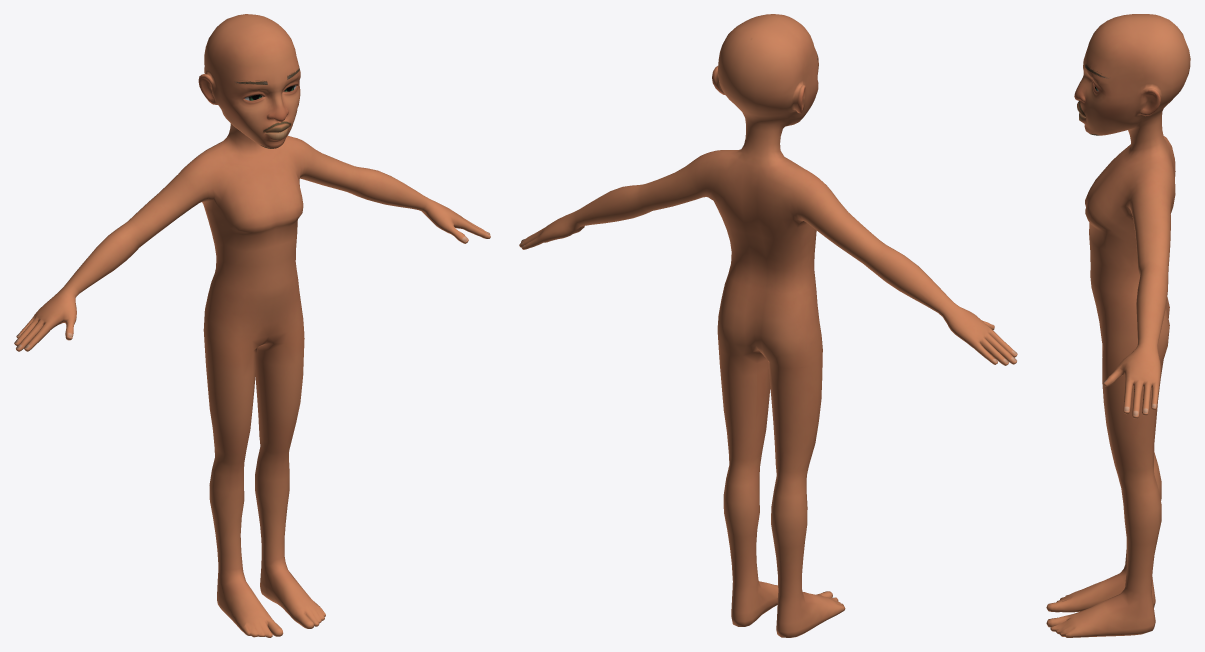
File: frame_0009.glb
3 renders of one model, left to right at view 1: azimuth 30°, elevation 25°; view 2: azimuth 150°, elevation 25°; view 3: azimuth 270°, elevation 25°, orthographic. The views are drawn at different scales.
Parts seen in each view (by area): view 1: frame_0009_head_geo; view 2: frame_0009_head_geo; view 3: frame_0009_head_geo.
Boxes of the visible parts, x1=… form: frame_0009_head_geo: x1=14, y1=14, x2=490, y2=637; frame_0009_head_geo: x1=519, y1=14, x2=1017, y2=637; frame_0009_head_geo: x1=1046, y1=14, x2=1190, y2=637.
Size of the model in its own units: 1.28 by 1.5 by 0.3253.
3 materials, 3 textured.
